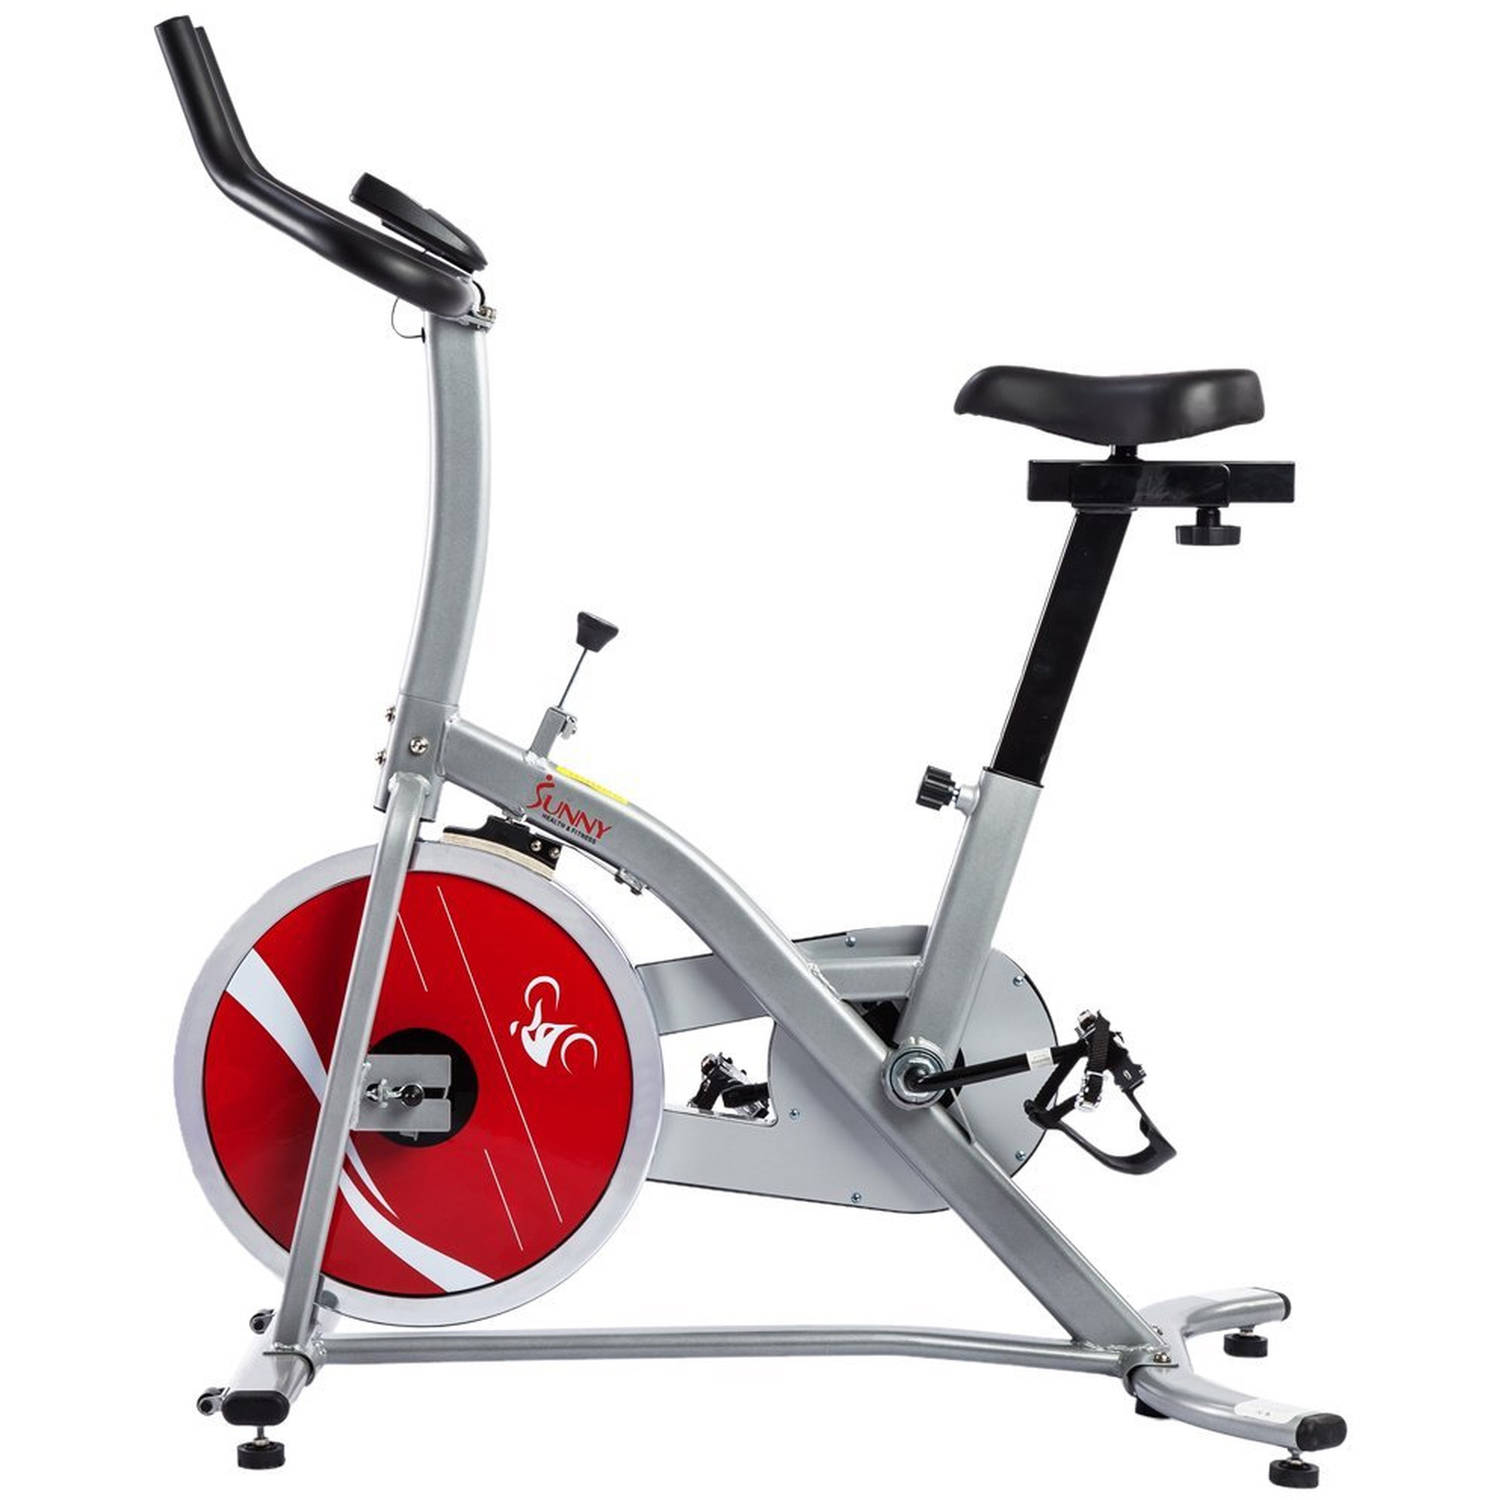gym_bike: (93, 1, 1387, 1488)
